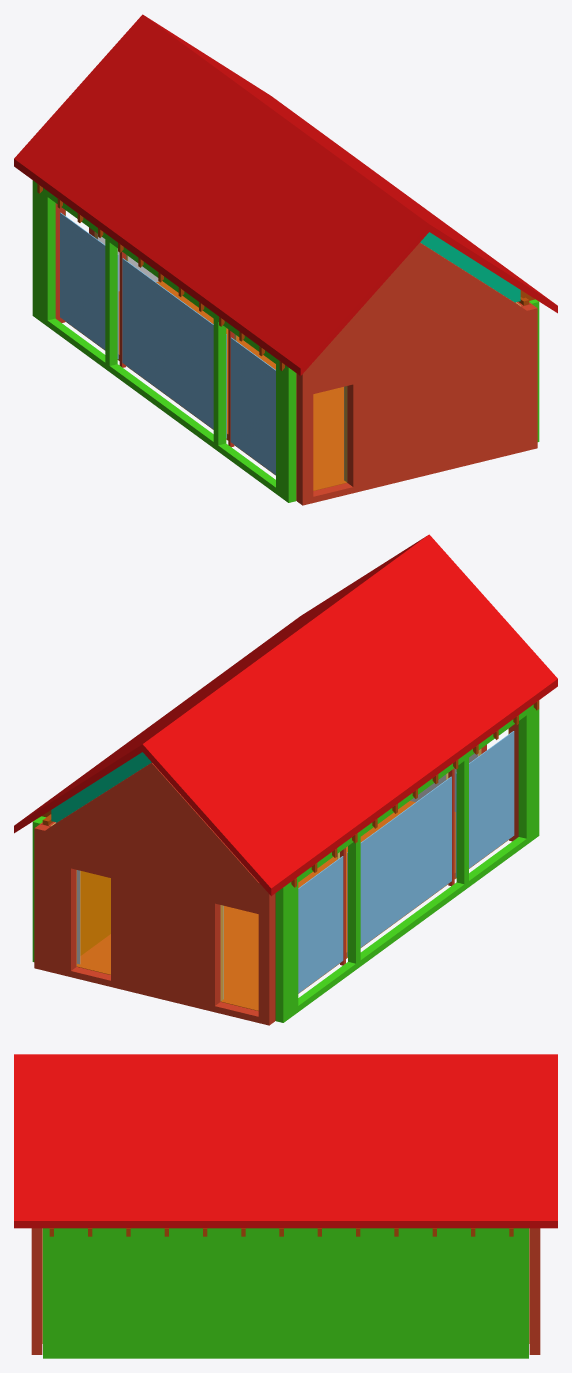
The model's file is obyvak.glb.
3 renders of one model, top to bottom at view 1: azimuth 30°, elevation 25°; view 2: azimuth 150°, elevation 25°; view 3: azimuth 270°, elevation 25°, orthographic. The views are drawn at different scales.
Parts seen in each view (by area): view 1: roofing, masonry (×2), glazing (×3), eps, floor, plenum_wool; view 2: roofing, masonry (×2), glazing (×3), eps, floor, furniture, plenum_wool; view 3: roofing, eps, masonry (×2).
Part boxes in pixels (bbox=[...]): roofing: bbox=[14, 14, 557, 376]; masonry (×2): bbox=[55, 203, 537, 505]; glazing (×3): bbox=[60, 212, 275, 474]; eps: bbox=[32, 180, 296, 502]; floor: bbox=[65, 281, 346, 490]; plenum_wool: bbox=[420, 232, 520, 302]; roofing: bbox=[14, 534, 557, 896]; masonry (×2): bbox=[34, 724, 518, 1025]; glazing (×3): bbox=[298, 731, 514, 993]; eps: bbox=[275, 704, 539, 1022]; floor: bbox=[77, 801, 508, 1010]; furniture: bbox=[80, 871, 110, 955]; plenum_wool: bbox=[51, 752, 151, 822]; roofing: bbox=[14, 1054, 557, 1228]; eps: bbox=[43, 1228, 528, 1358]; masonry (×2): bbox=[31, 1228, 540, 1354].
Bounding box in the file's own units: 6.44 × 6.21 × 12.43.
